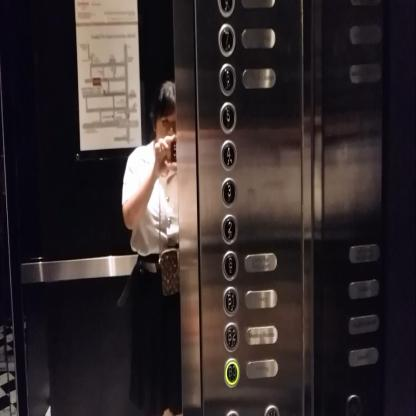2: (221, 212, 238, 244)
3: (221, 176, 237, 207)
4: (220, 139, 237, 171)
5: (220, 101, 236, 133)
6: (219, 61, 236, 97)
7: (217, 22, 236, 58)
B1: (223, 285, 238, 316)
B2: (223, 321, 239, 352)
B3: (224, 357, 240, 386)
G: (222, 249, 238, 280)
